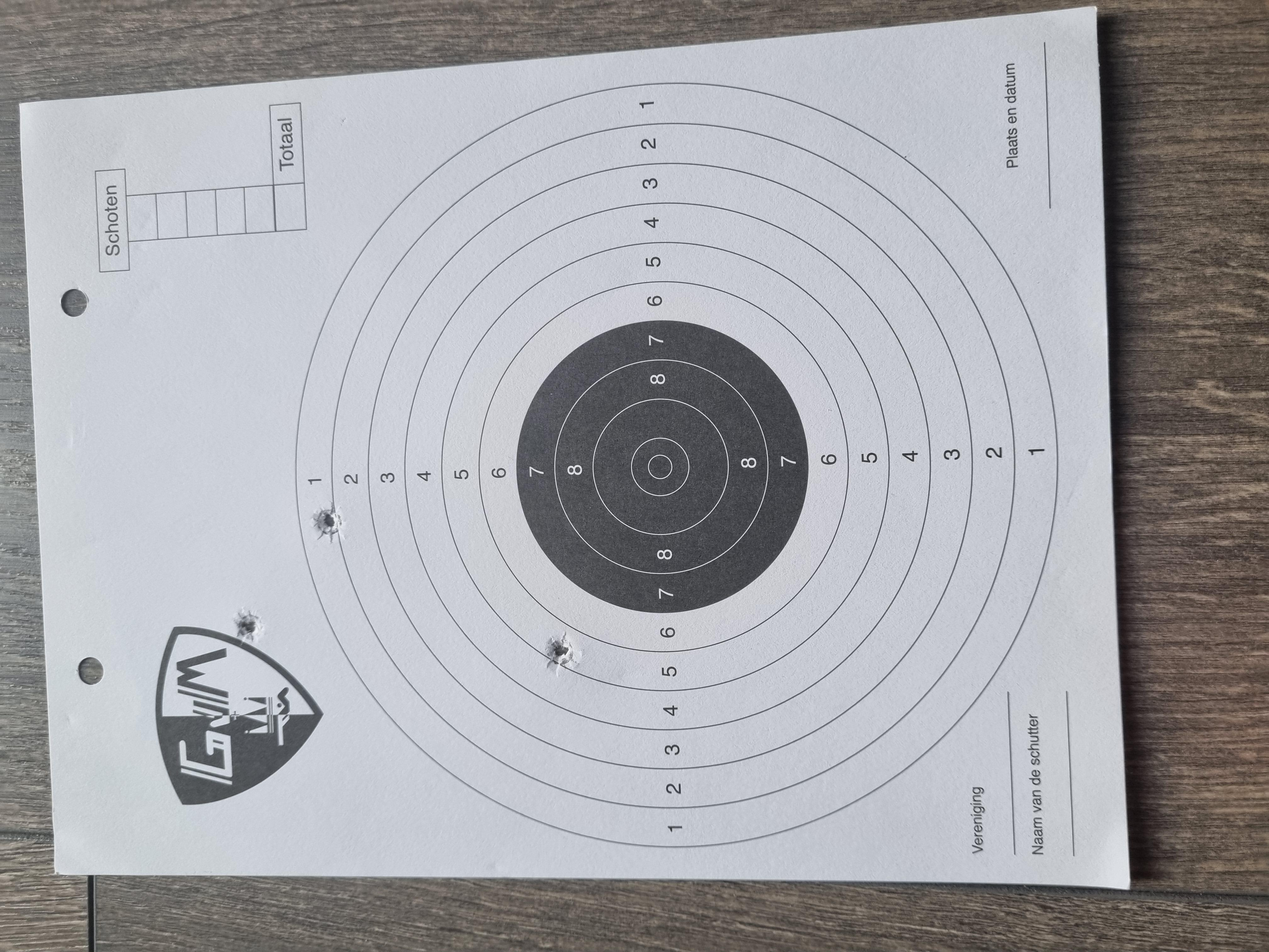hole: (375, 407, 422, 435), (550, 235, 592, 257), (413, 175, 457, 196)
